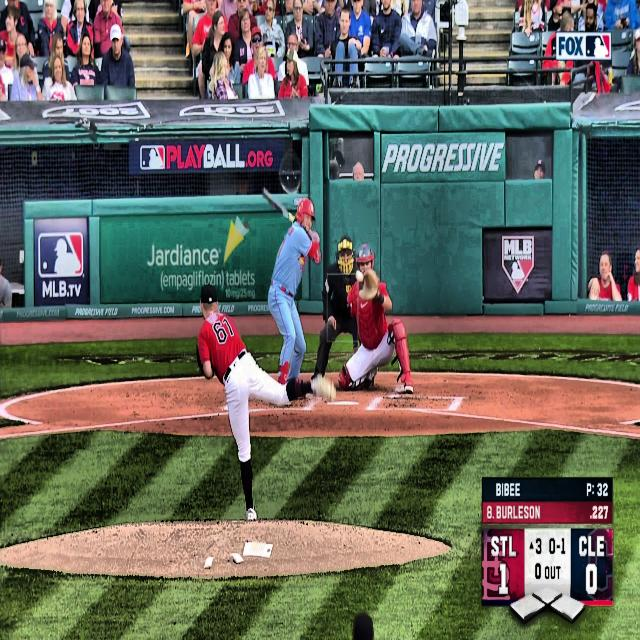baseball: (355, 270, 364, 283)
